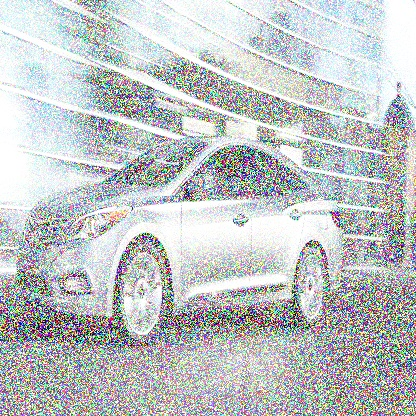Vehicle: (16, 135, 346, 349)
